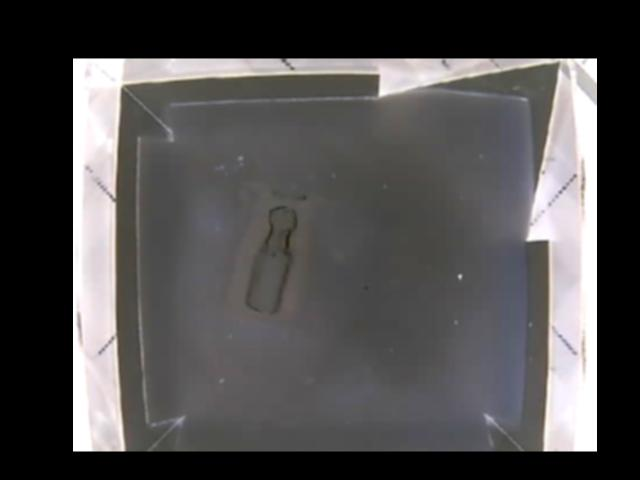Bottle: (236, 185, 312, 320)
